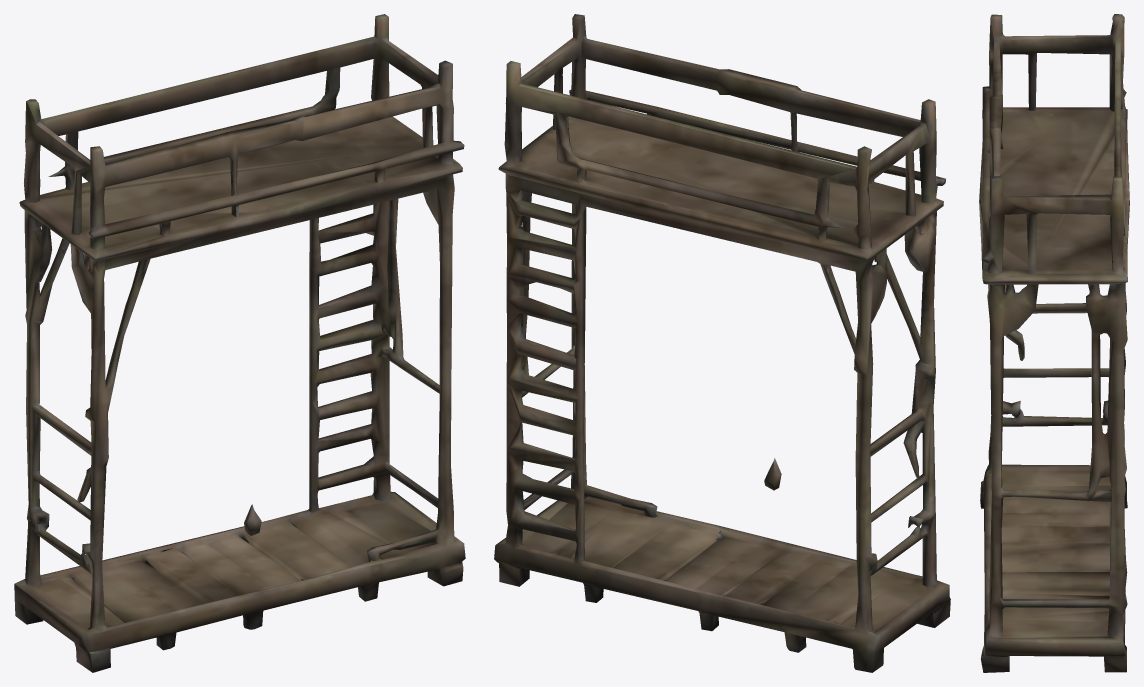
The model's file is chipped-wood-scaffold-tower-v001.glb.
3 views of the same model, side by side, from view 1: azimuth 30°, elevation 25°; view 2: azimuth 150°, elevation 25°; view 3: azimuth 270°, elevation 25° (orthographic). The views are drawn at different scales.
Parts seen in each view (by area): view 1: chipped-wood-scaffold-tower; view 2: chipped-wood-scaffold-tower; view 3: chipped-wood-scaffold-tower.
Boxes of the visible parts, x1,y1,x2,y2 form: chipped-wood-scaffold-tower: [14, 14, 465, 672]; chipped-wood-scaffold-tower: [494, 14, 950, 672]; chipped-wood-scaffold-tower: [979, 14, 1129, 672].
Size of the model in its own units: 2.61 by 3.37 by 0.9399.
Materials: 1 (1 with a texture image).
